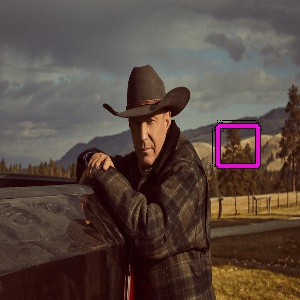square: (212, 120, 263, 171)
